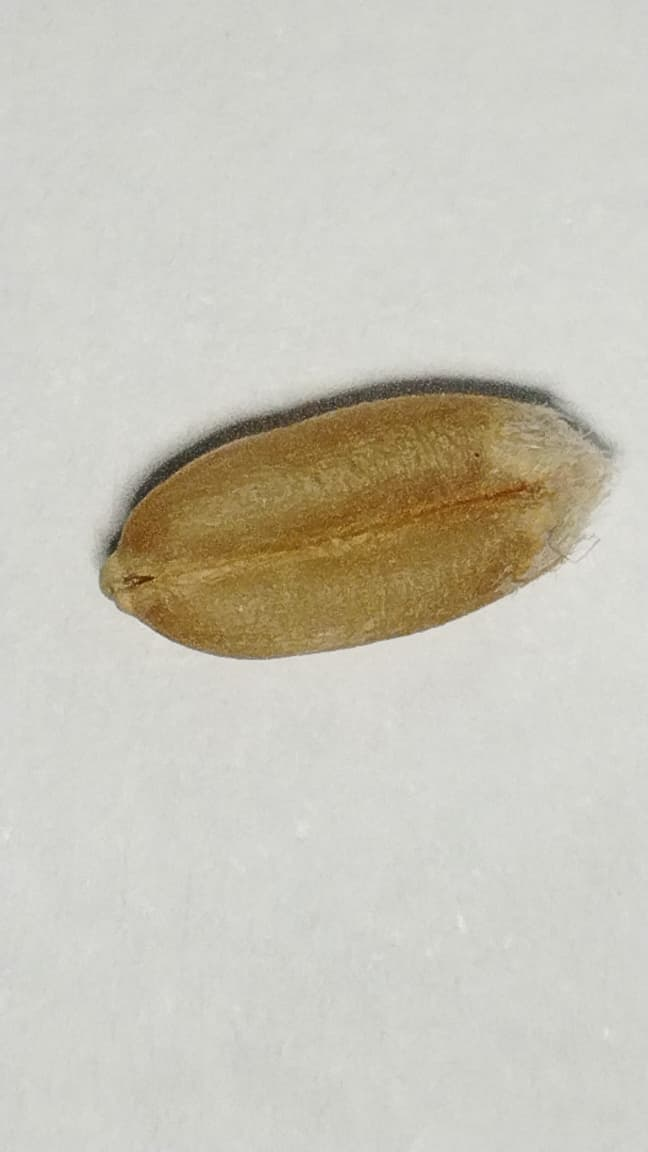healthy: (102, 392, 610, 657)
